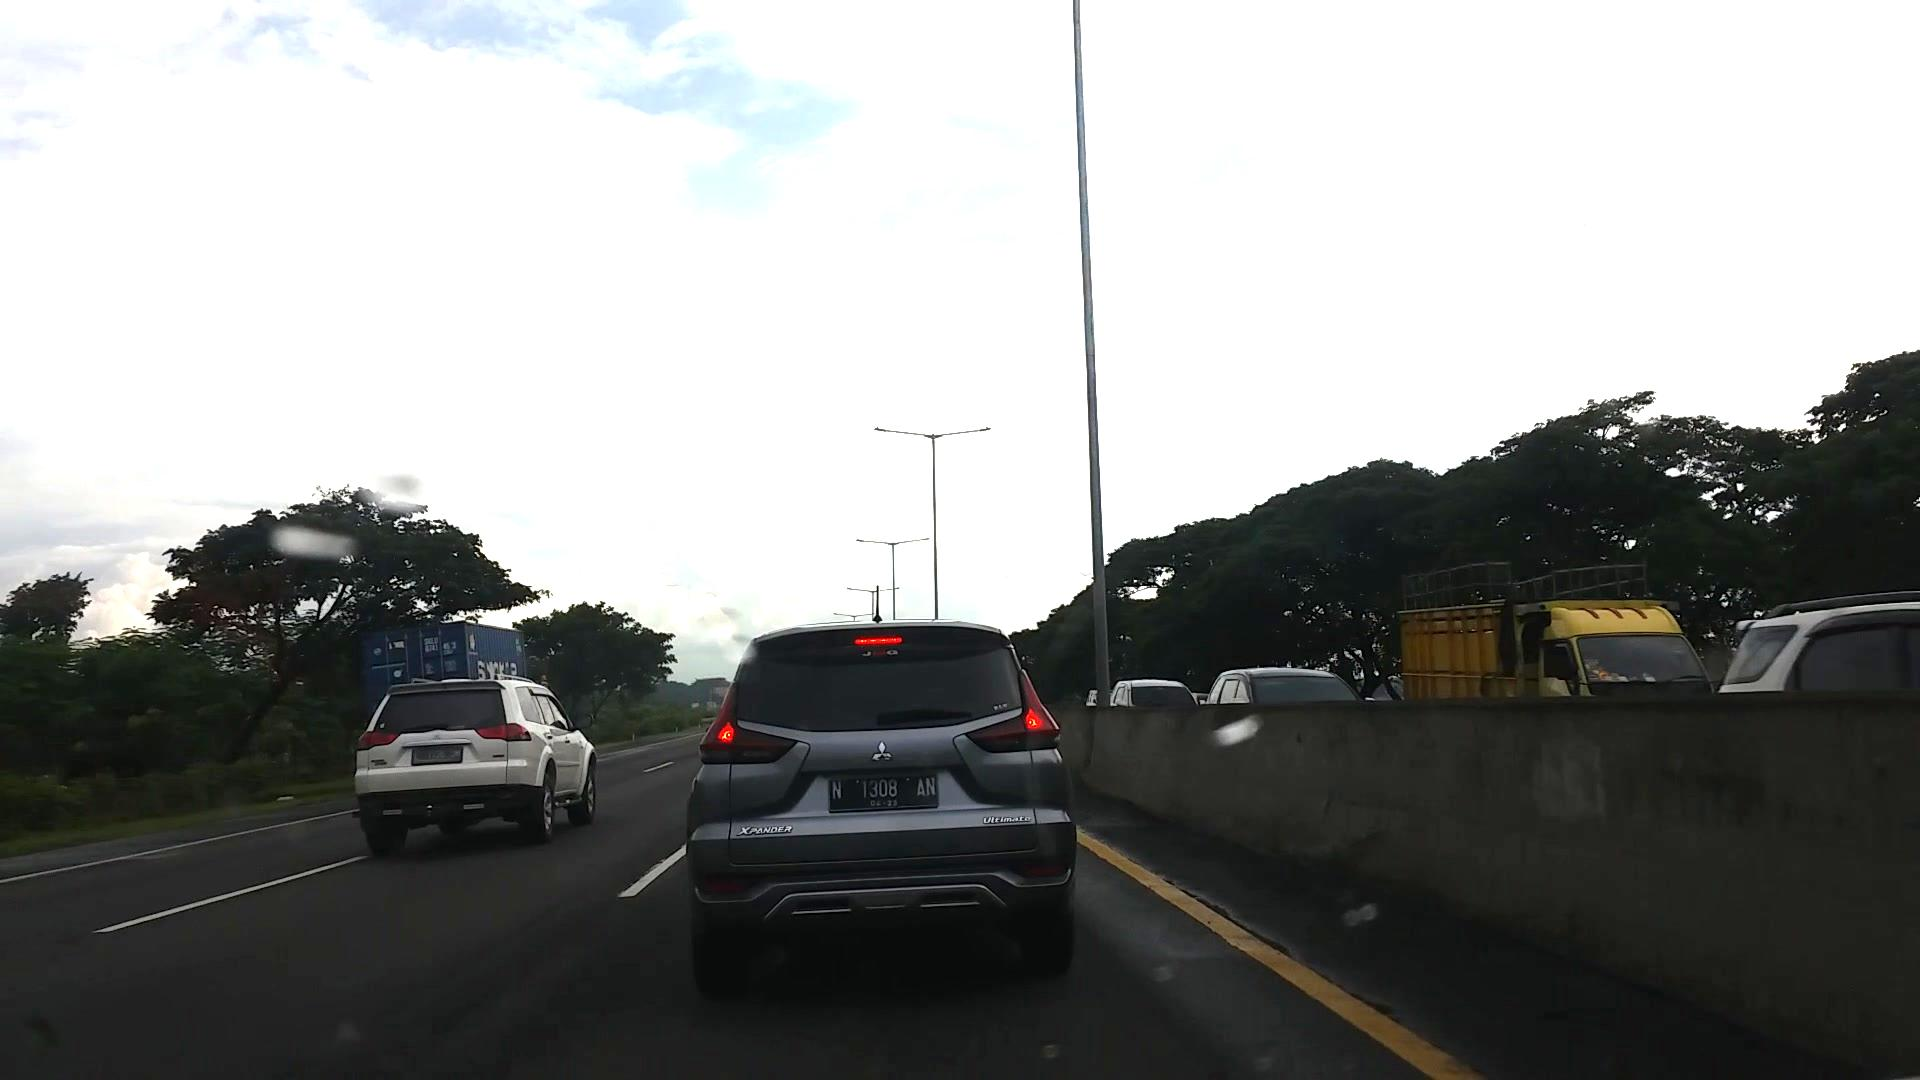plate_positive: (828, 775, 938, 811)
